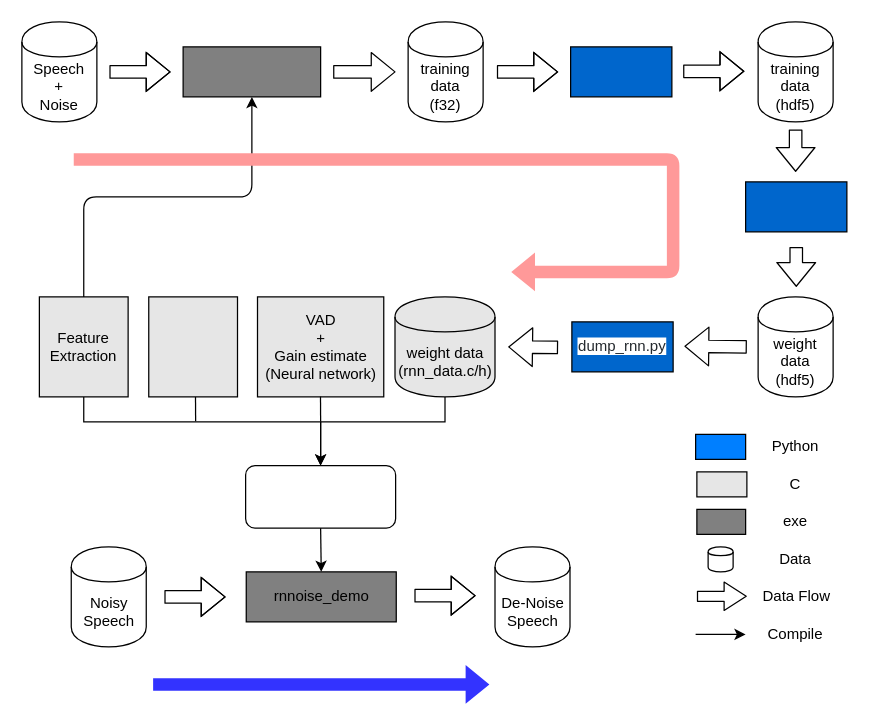
Image size: 869x725. Some labels were removed from this diagram. Each missing label, with the box of its shape:
bin2hdf5.py: (569, 46, 672, 97)
denoise_training: (182, 46, 321, 97)
rnn_train.py: (744, 181, 847, 232)
RNNoise lib: (244, 464, 396, 528)
Spectral Subtraction: (148, 296, 238, 397)
